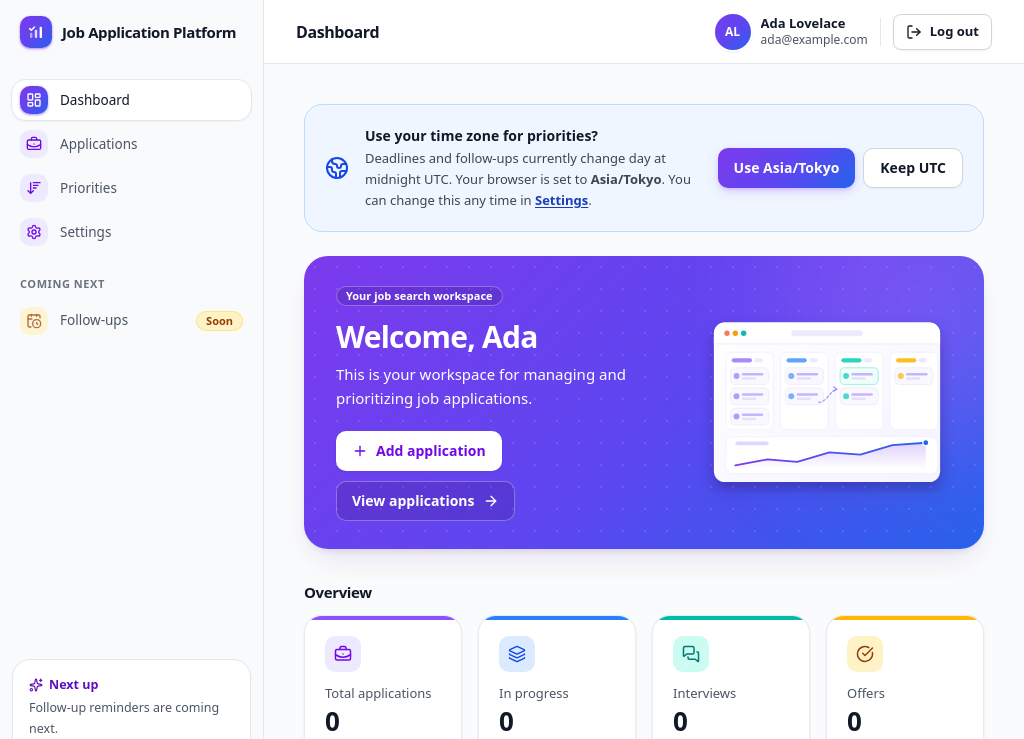
Scenario: time zone preference › "Keep UTC" saves UTC as a deliberate choice, so the suggestion does not return
Click the button "Keep UTC" at point(913, 168), box [863, 148, 963, 188]
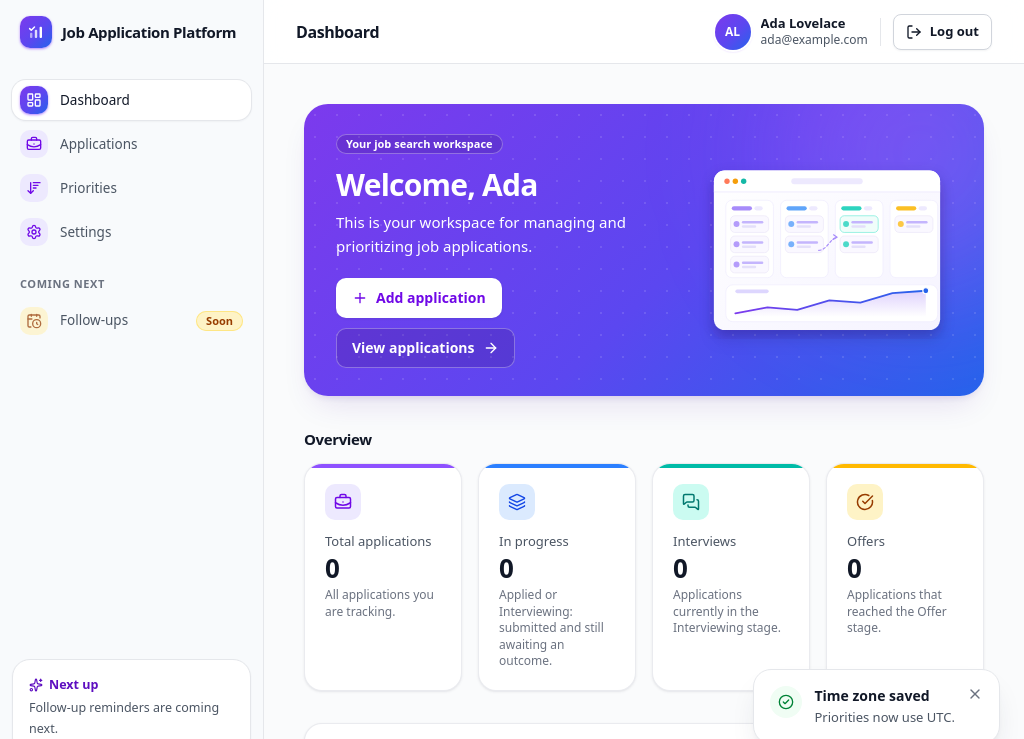
Now the element with test id "timezone-suggestion" is gone
